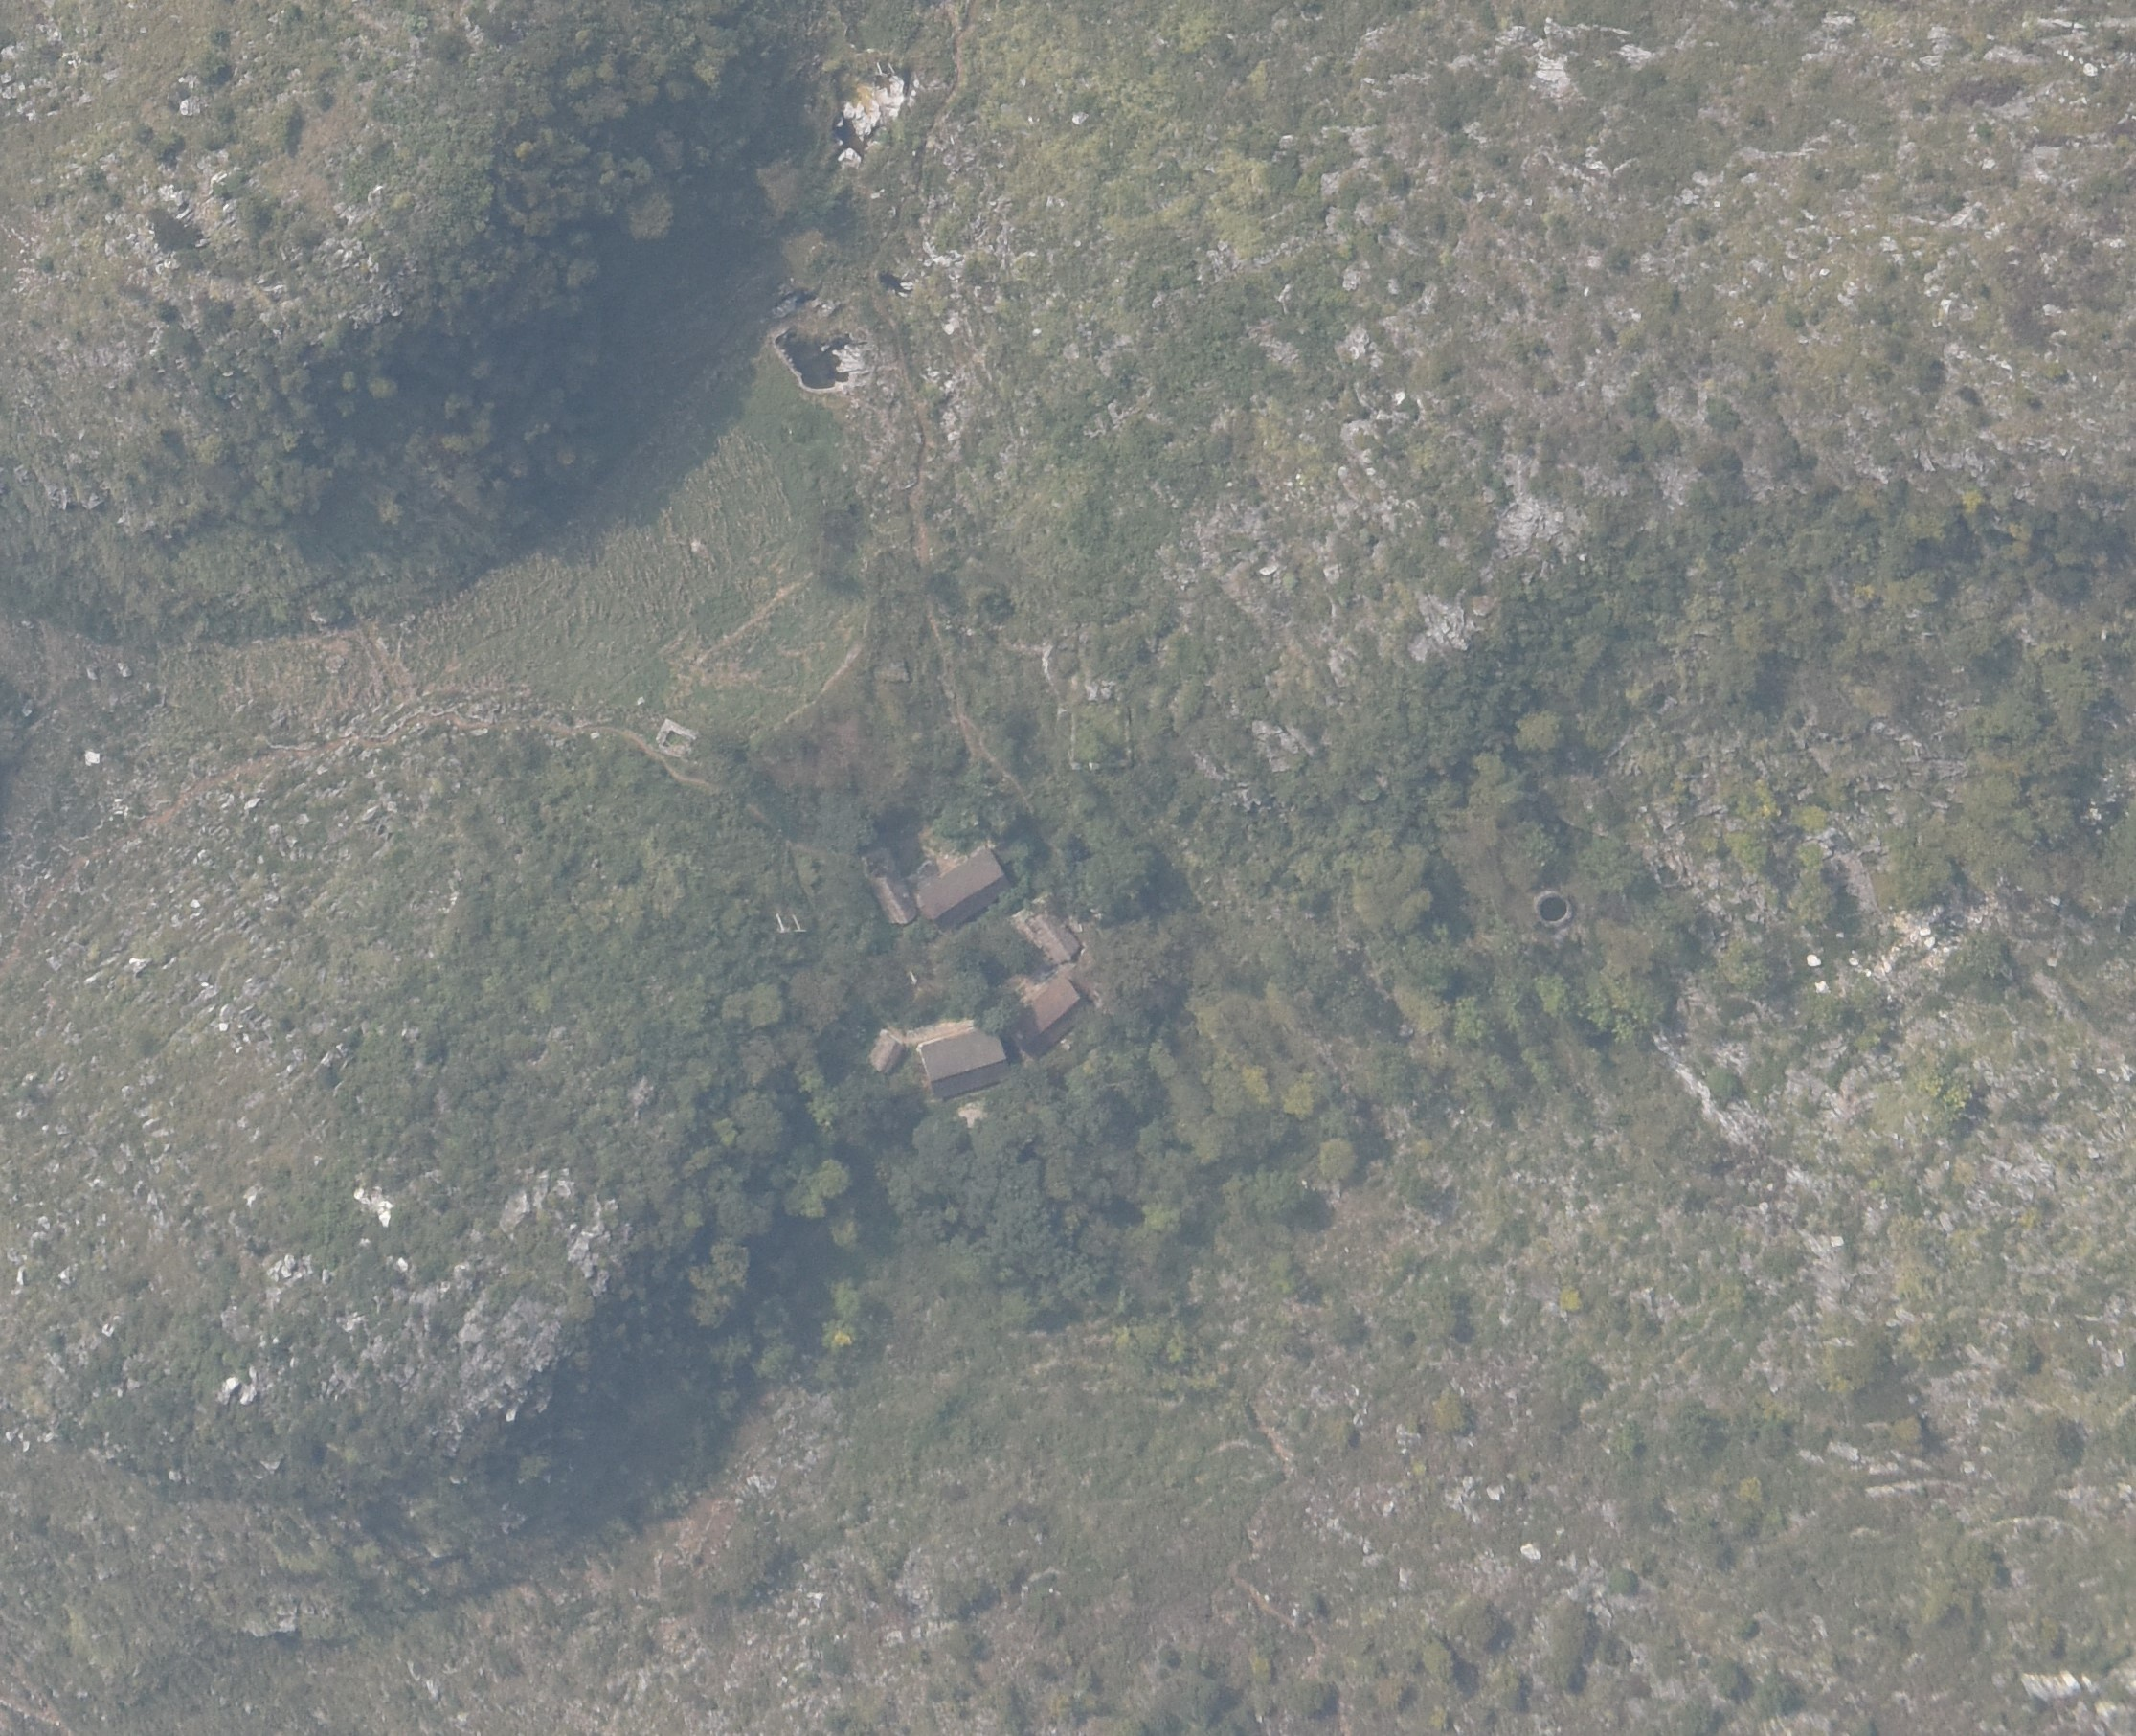building: (914, 849, 1011, 932), (1006, 976, 1084, 1056), (919, 1024, 1008, 1093), (859, 850, 916, 926), (1018, 896, 1080, 965), (870, 1033, 907, 1073)
cable-tower: (790, 912, 806, 932), (776, 912, 790, 934), (875, 62, 887, 76), (909, 971, 917, 985), (887, 62, 896, 74)
well: (1532, 880, 1578, 930)
